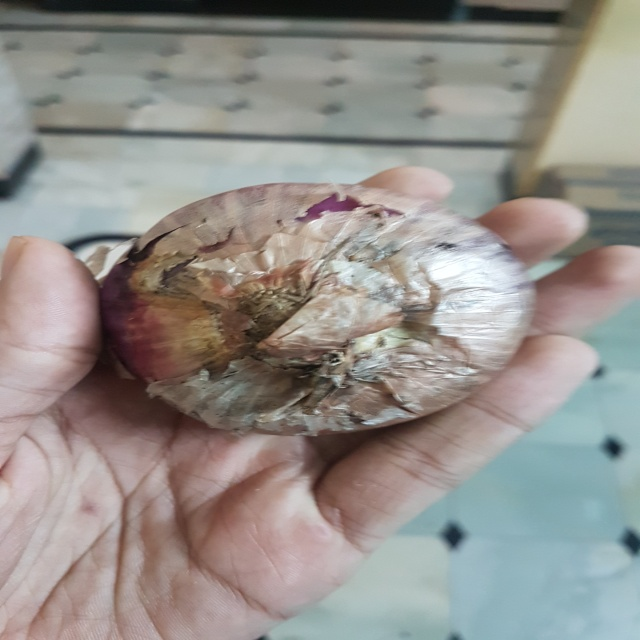onion: (90, 171, 542, 443)
